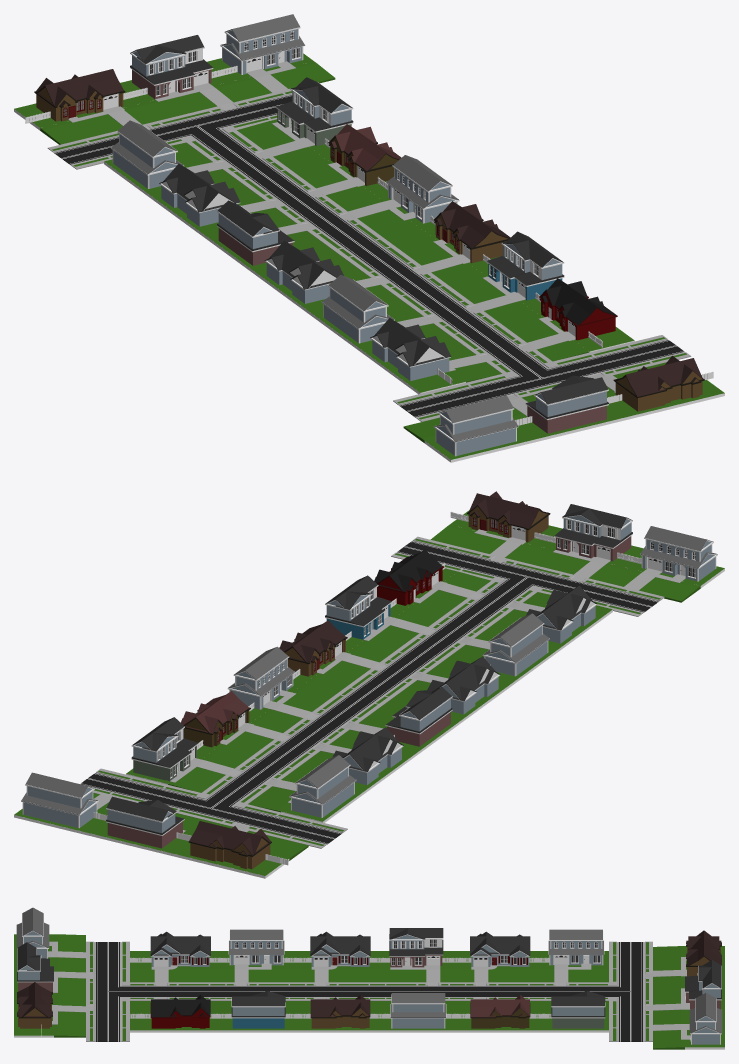
Rendered from neighborhood_street.glb.
3 views of the same model, one above another, from view 1: azimuth 30°, elevation 25°; view 2: azimuth 150°, elevation 25°; view 3: azimuth 270°, elevation 25° (orthographic). The views are drawn at different scales.
Visible parts, largest first — view 1: Object_30, Object_55, Object_46, Object_56, Object_29, Object_12, Object_48, Object_22, Object_27, Object_23, Object_26, Object_25 (+17 smaller); view 2: Object_30, Object_55, Object_46, Object_56, Object_29, Object_12, Object_48, Object_22, Object_26, Object_23, Object_27, Object_25 (+18 smaller); view 3: Object_30, Object_55, Object_56, Object_12, Object_46, Object_29, Object_48, Object_22, Object_26, Object_27, Object_23, Object_11 (+26 smaller).
Part boxes in pixels (x1=…): Object_30: x1=40, y1=61, x2=686, y2=442; Object_55: x1=54, y1=95, x2=684, y2=417; Object_46: x1=113, y1=29, x2=606, y2=455; Object_56: x1=130, y1=35, x2=608, y2=418; Object_29: x1=48, y1=88, x2=690, y2=421; Object_12: x1=14, y1=53, x2=724, y2=459; Object_48: x1=111, y1=14, x2=518, y2=442; Object_22: x1=35, y1=69, x2=702, y2=396; Object_27: x1=47, y1=61, x2=617, y2=421; Object_23: x1=36, y1=87, x2=702, y2=411; Object_26: x1=53, y1=102, x2=691, y2=408; Object_25: x1=68, y1=91, x2=654, y2=373; Object_30: x1=93, y1=524, x2=700, y2=860; Object_55: x1=81, y1=541, x2=658, y2=844; Object_46: x1=23, y1=515, x2=715, y2=832; Object_56: x1=106, y1=504, x2=632, y2=834; Object_29: x1=93, y1=536, x2=663, y2=847; Object_12: x1=14, y1=510, x2=724, y2=875; Object_48: x1=21, y1=526, x2=717, y2=815; Object_22: x1=189, y1=491, x2=549, y2=855; Object_26: x1=163, y1=529, x2=685, y2=844; Object_23: x1=190, y1=506, x2=548, y2=869; Object_27: x1=93, y1=555, x2=664, y2=848; Object_25: x1=80, y1=547, x2=536, y2=840; Object_30: x1=54, y1=934, x2=684, y2=1049; Object_55: x1=96, y1=942, x2=642, y2=1041; Object_56: x1=17, y1=928, x2=721, y2=1017; Object_12: x1=14, y1=934, x2=724, y2=1047; Object_46: x1=18, y1=931, x2=720, y2=1044; Object_29: x1=58, y1=941, x2=680, y2=1041; Object_48: x1=16, y1=907, x2=722, y2=1033; Object_22: x1=17, y1=930, x2=721, y2=1017; Object_26: x1=48, y1=941, x2=650, y2=1041; Object_27: x1=62, y1=942, x2=690, y2=1039; Object_23: x1=18, y1=946, x2=720, y2=1028; Object_11: x1=145, y1=1030, x2=724, y2=1049.
Bounding box in the file's own units: 268 × 34.85 × 712.
